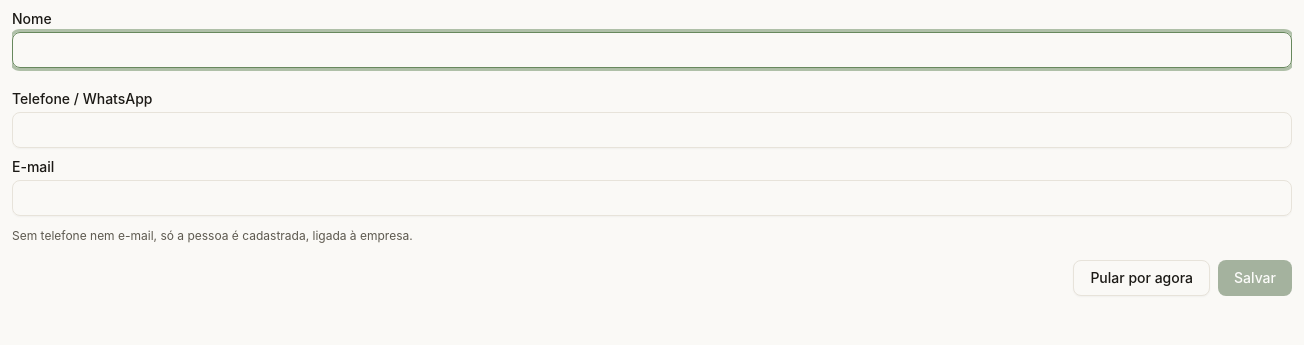
Test: FormPessoaComContato › validação recusada: mostra a frase do campo, não o texto genérico
Type "Ana" into the field labelled "Nome" at (652, 50), box [12,32,1292,68]
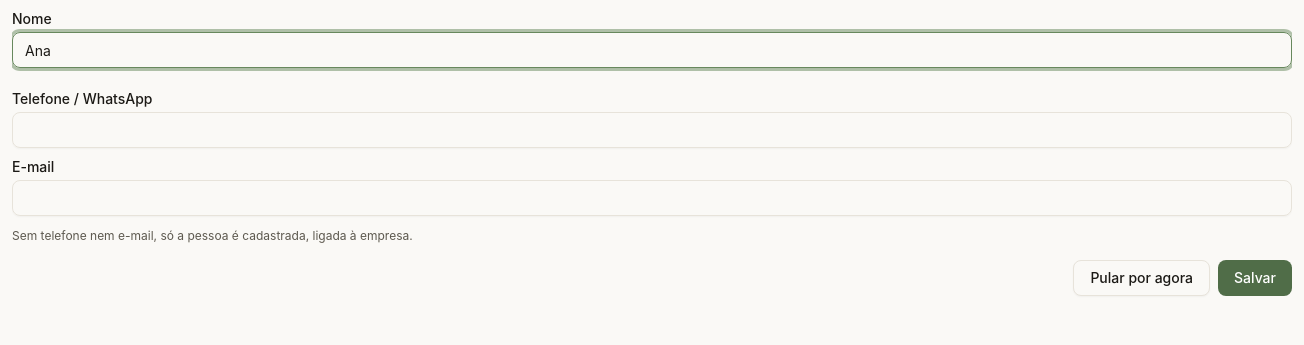
Click the button "Salvar" at (1255, 278), box [1218,260,1292,296]
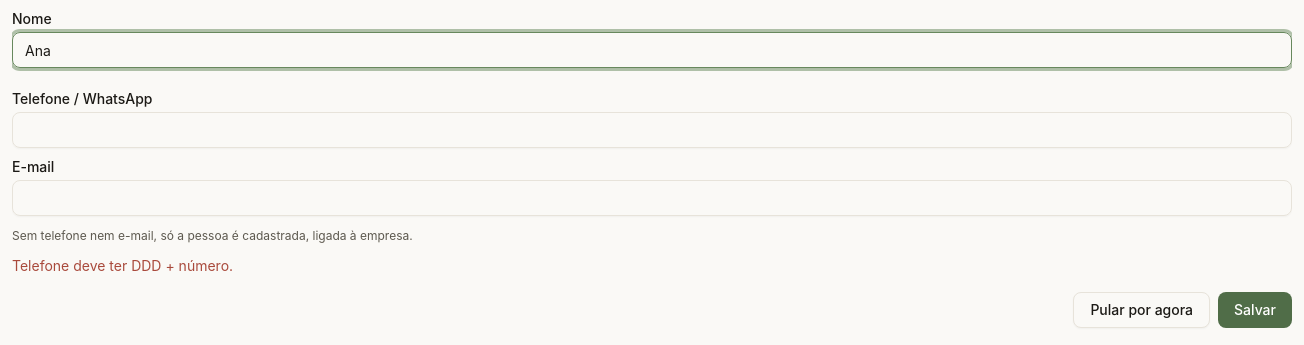
Now the message reads "Telefone deve ter DDD + número.", box [12,257,233,274]
